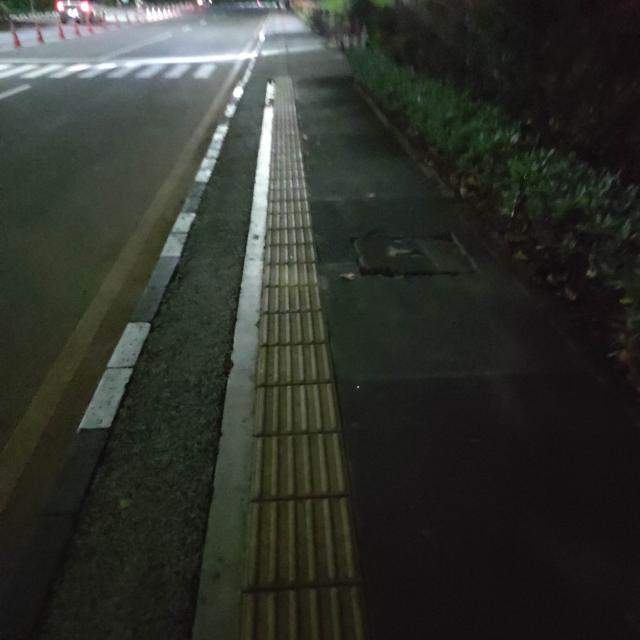lurus: (239, 66, 354, 640)
